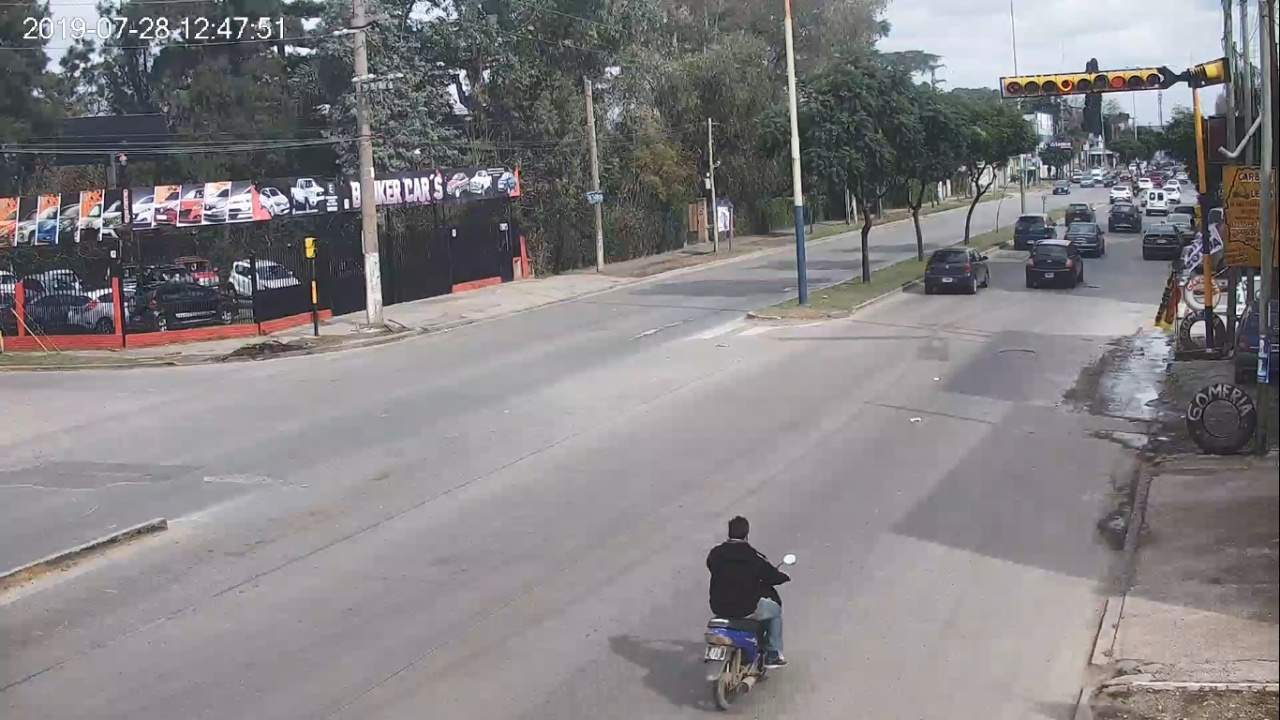car: (925, 247, 990, 293), (1026, 239, 1084, 288)
motorcycle: (704, 517, 797, 708)
